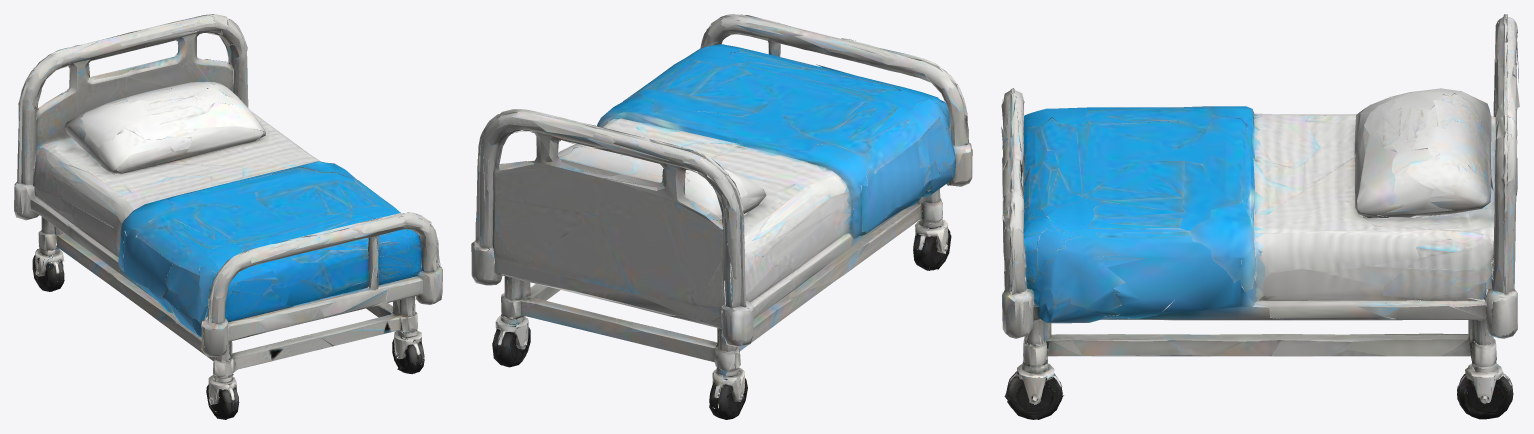
Rendered from bed.glb.
3 renders of one model, left to right at view 1: azimuth 30°, elevation 25°; view 2: azimuth 150°, elevation 25°; view 3: azimuth 270°, elevation 25°, orthographic. The views are drawn at different scales.
Parts seen in each view (by area): view 1: Mesh_0; view 2: Mesh_0; view 3: Mesh_0.
Boxes of the visible parts, <box> form: Mesh_0: <box>14,14,442,419</box>; Mesh_0: <box>471,14,972,419</box>; Mesh_0: <box>1001,14,1519,419</box>.
Size of the model in its own units: 1.32 by 1.21 by 1.91.
Materials: 1 (1 with a texture image).
